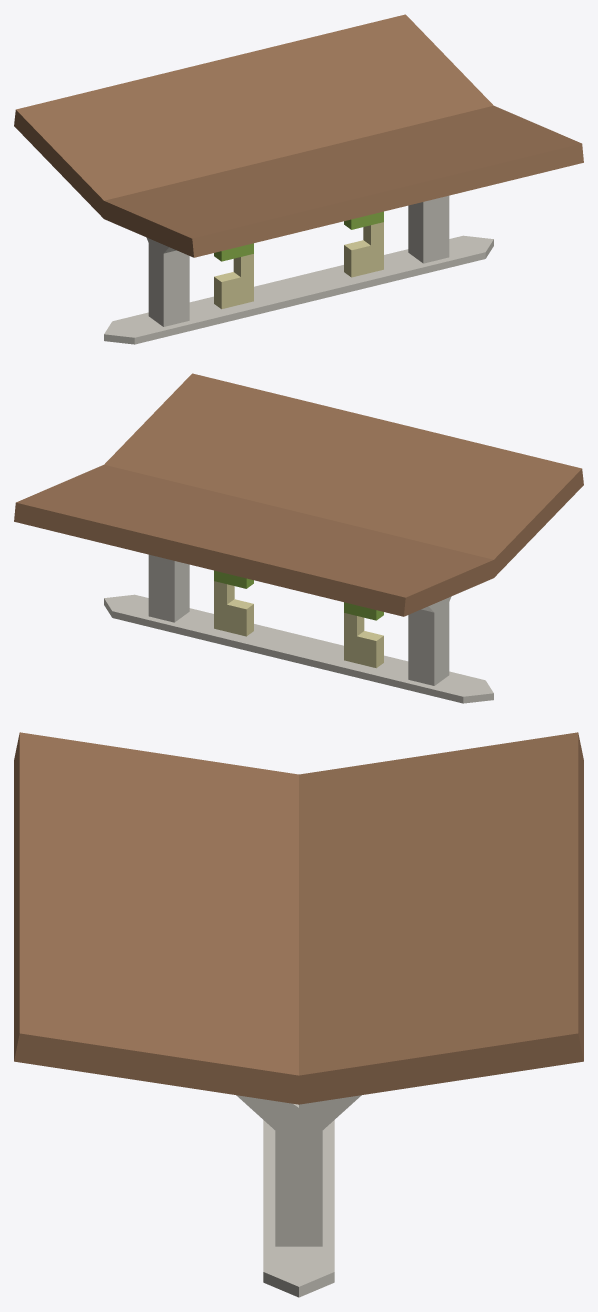
File: gasStation.glb
3 views of the same model, one above another, from view 1: azimuth 30°, elevation 25°; view 2: azimuth 150°, elevation 25°; view 3: azimuth 270°, elevation 25° (orthographic). The views are drawn at different scales.
Parts seen in each view (by area): view 1: gas-station_Cube.047_1, gas-station_Cube.047; view 2: gas-station_Cube.047_1, gas-station_Cube.047; view 3: gas-station_Cube.047_1.
Part boxes in pixels (left/top/right/bottom): gas-station_Cube.047_1: left=14, top=14, right=583, bottom=344; gas-station_Cube.047: left=214, top=211, right=383, bottom=261; gas-station_Cube.047_1: left=14, top=373, right=583, bottom=703; gas-station_Cube.047: left=214, top=570, right=383, bottom=620; gas-station_Cube.047_1: left=14, top=732, right=583, bottom=1297.
Size of the model in its own units: 12 by 4.91 by 9.6.
Materials: 2 (2 with a texture image).
